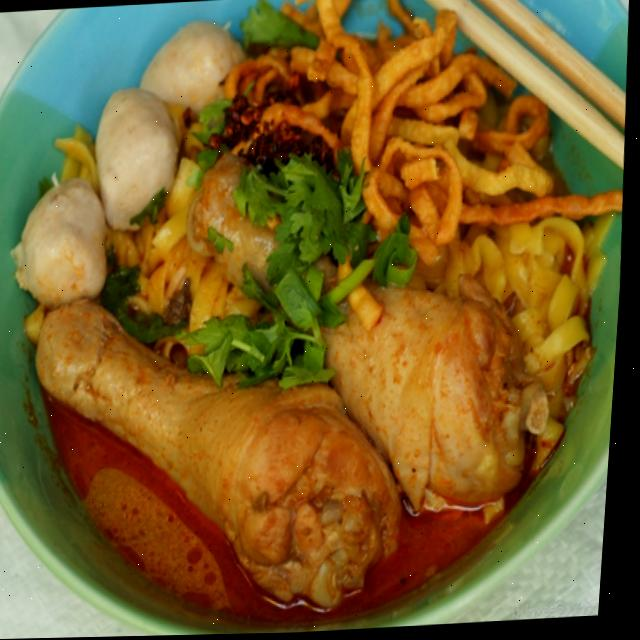面条主食: (0, 0, 635, 634)
